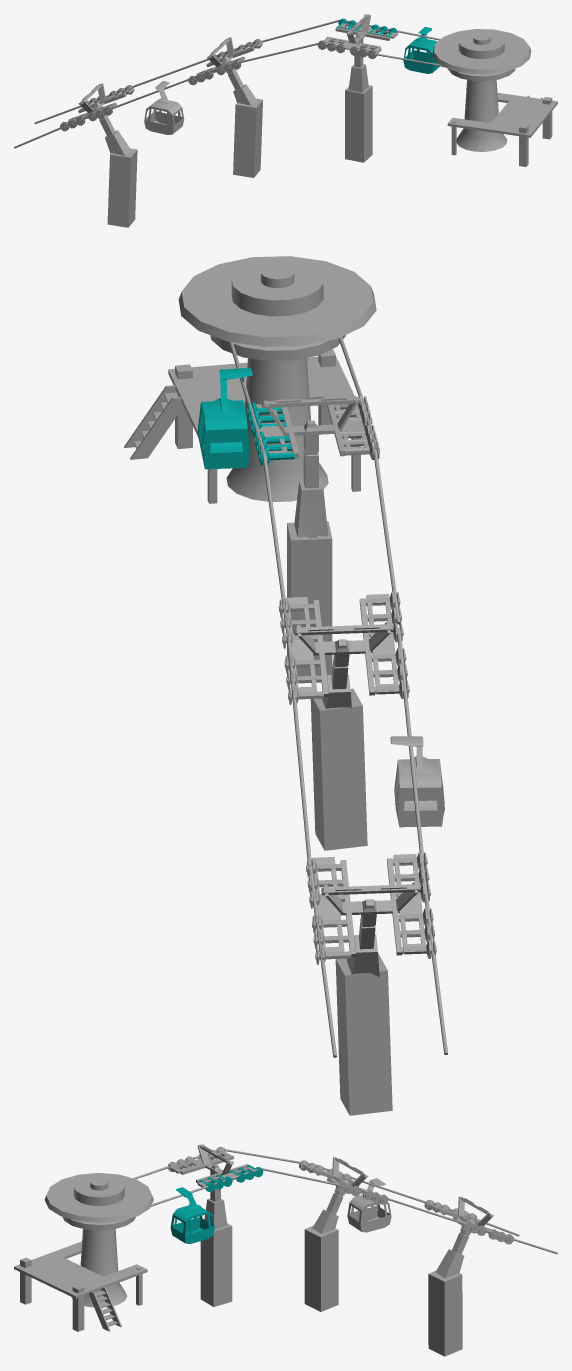
The model's file is _ANM_CableCarGroup.fbx.
3 renders of one model, top to bottom at view 1: azimuth 30°, elevation 25°; view 2: azimuth 150°, elevation 25°; view 3: azimuth 270°, elevation 25°, orthographic. The views are drawn at different scales.
Parts seen in each view (by area): view 1: tramEnd, pCube604 (×3), pCube618, pCube617, pCube619, pCube600, polySurface112 (×2), pCube632, pCube621, polySurface113; view 2: tramEnd, pCube604 (×3), pCube617, pCube619, polySurface112 (×2), pCube600, pCube618, pCube625, pCylinder184; view 3: tramEnd, pCube604 (×3), pCube618, pCube617, pCube619, polySurface112 (×2), pCube600, pCube621, pCube632, polySurface113, pCube624.
Part boxes in pixels (x1,y1,x2,y2): tramEnd: [432, 29, 531, 151]; pCube604 (×3): [74, 14, 397, 155]; pCube618: [447, 92, 557, 137]; pCube617: [233, 98, 262, 177]; pCube619: [107, 148, 137, 227]; pCube600: [345, 85, 372, 162]; polySurface112 (×2): [144, 37, 439, 134]; pCube632: [519, 124, 528, 166]; pCube621: [542, 97, 552, 139]; polySurface113: [154, 81, 173, 108]; tramEnd: [178, 256, 376, 501]; pCube604 (×3): [256, 396, 426, 976]; pCube617: [310, 688, 367, 850]; pCube619: [335, 954, 392, 1115]; polySurface112 (×2): [197, 400, 444, 827]; pCube600: [287, 521, 332, 676]; pCube618: [168, 356, 367, 437]; pCube625: [130, 397, 183, 459]; pCylinder184: [286, 631, 311, 865]; tramEnd: [44, 1173, 153, 1307]; pCube604 (×3): [170, 1144, 493, 1278]; pCube618: [14, 1241, 147, 1298]; pCube617: [304, 1225, 338, 1311]; pCube619: [428, 1271, 462, 1356]; polySurface112 (×2): [170, 1194, 391, 1243]; pCube600: [200, 1223, 232, 1306]; pCube621: [72, 1285, 84, 1331]; pCube632: [20, 1257, 31, 1304]; polySurface113: [175, 1187, 203, 1214]; pCube624: [89, 1291, 110, 1331].
Bounding box in the file's own units: 131 × 90.69 × 162.
